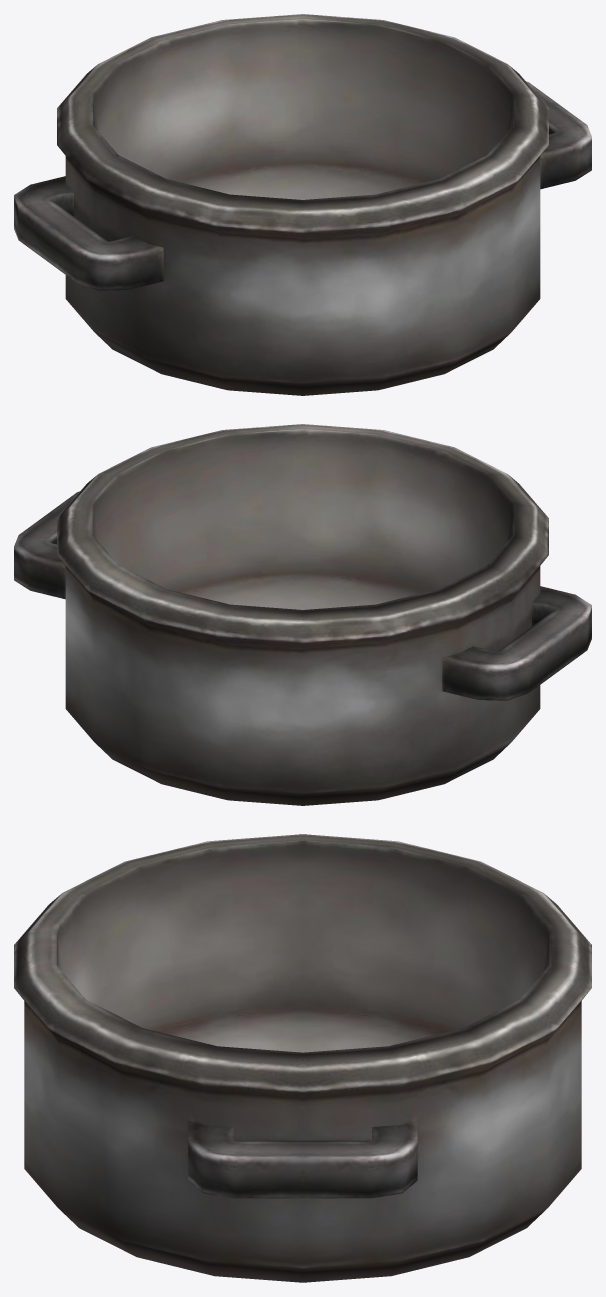
File: SM_Pan_01.gltf
3 views of the same model, one above another, from view 1: azimuth 30°, elevation 25°; view 2: azimuth 150°, elevation 25°; view 3: azimuth 270°, elevation 25° (orthographic). The views are drawn at different scales.
Visible parts, largest first — view 1: SM_Pan_01; view 2: SM_Pan_01; view 3: SM_Pan_01.
Boxes of the visible parts, box(x1,y1,x2,y2) form: SM_Pan_01: box(14, 14, 591, 395); SM_Pan_01: box(14, 424, 591, 805); SM_Pan_01: box(14, 834, 591, 1282).
Bounding box in the file's own units: 0.481 × 0.1739 × 0.4019.
1 material, 1 textured.
